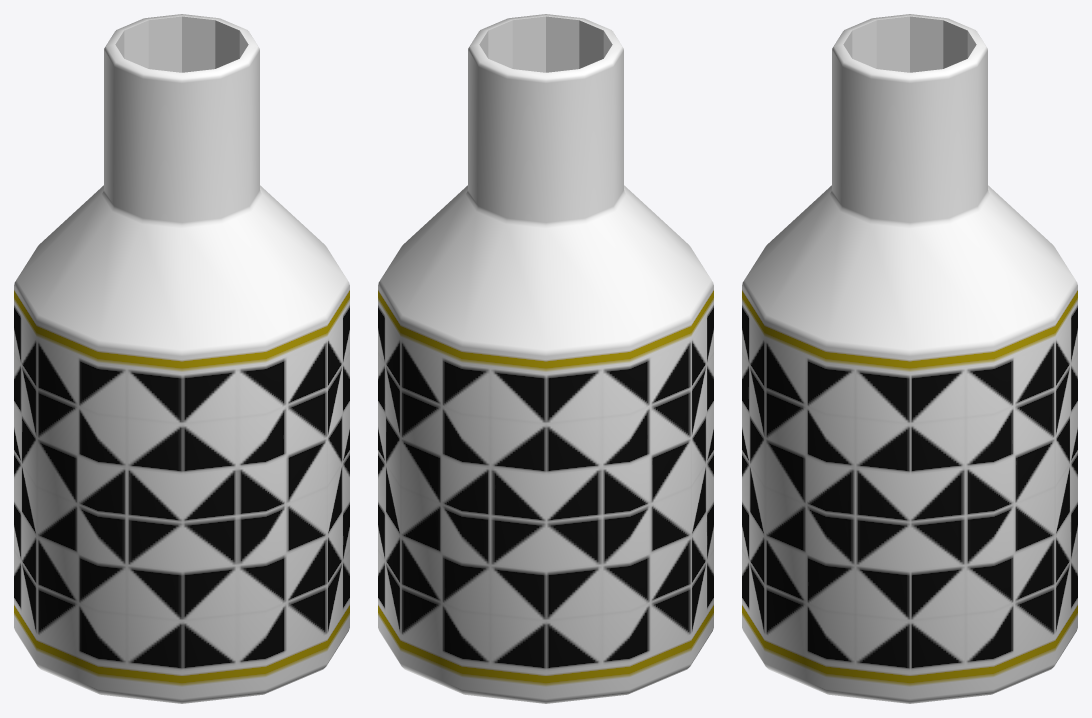
File: vase4.FBX
3 renders of one model, left to right at view 1: azimuth 30°, elevation 25°; view 2: azimuth 150°, elevation 25°; view 3: azimuth 270°, elevation 25°, orthographic.
Parts seen in each view (by area): view 1: vase4; view 2: vase4; view 3: vase4.
Boxes of the visible parts, box(x1,y1,x2,y2) form: vase4: box(14, 14, 349, 703); vase4: box(378, 14, 713, 703); vase4: box(742, 14, 1077, 703).
Size of the model in its own units: 6.27 by 6.27 by 12.25.
Materials: 1 (1 with a texture image).
